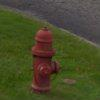Hydrant: (20, 20, 72, 92)
